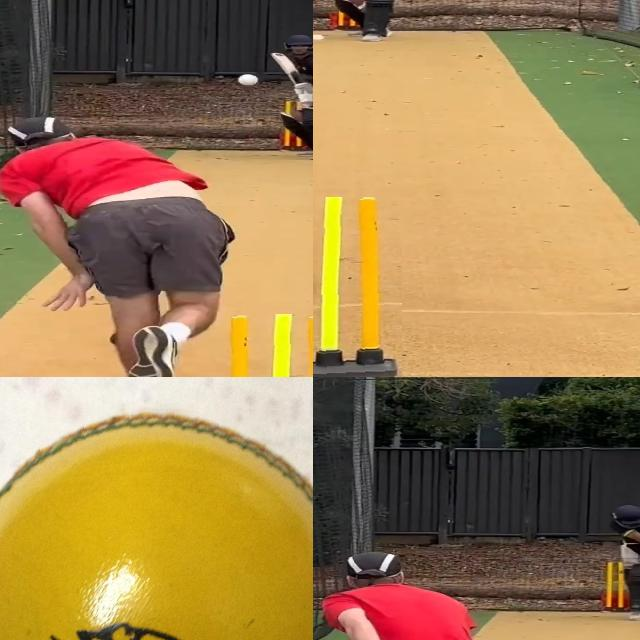Cricket ball: (0, 402, 313, 640), (236, 71, 261, 87), (313, 32, 326, 43)
Stumps: (313, 197, 402, 377), (208, 314, 313, 377)
